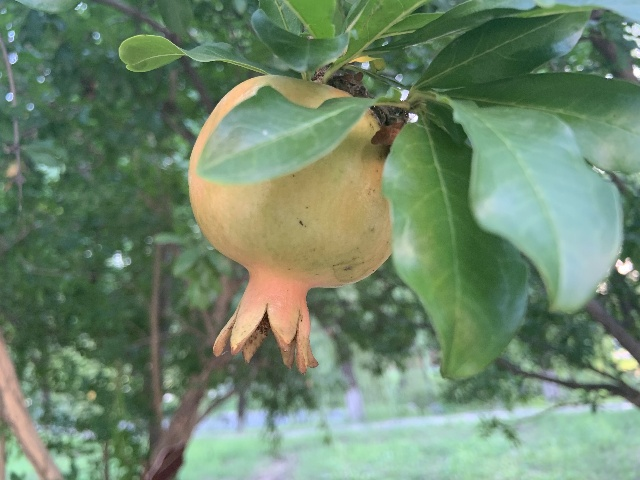mid-growth: (187, 74, 391, 373)
